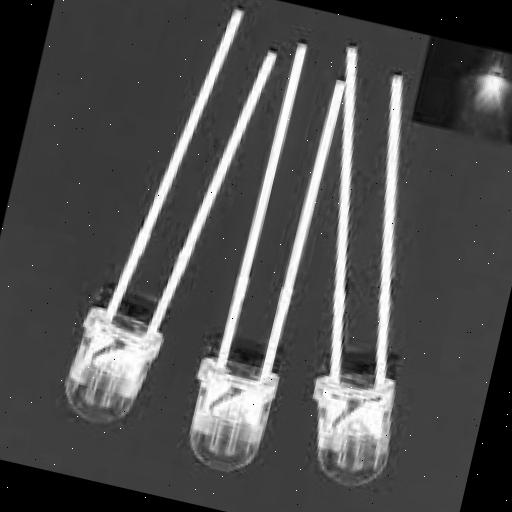LED: (152, 298, 320, 511), (272, 310, 448, 512), (35, 250, 200, 460)
